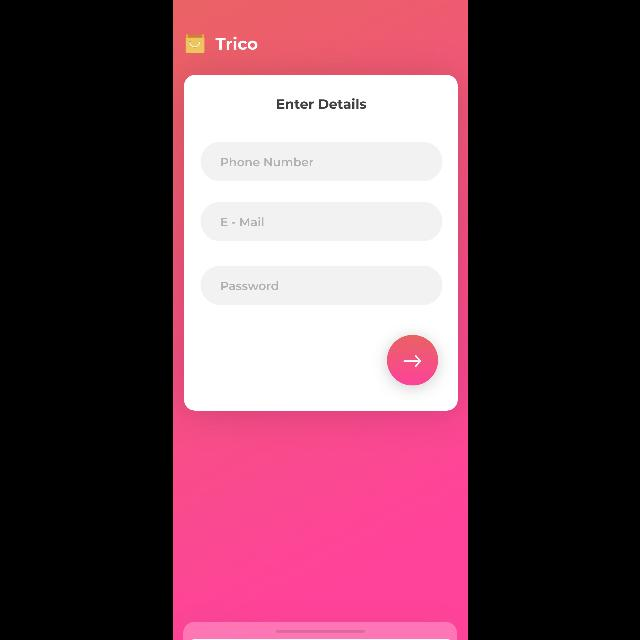icon: (387, 335, 438, 385)
image: (184, 34, 203, 54)
input: (200, 142, 442, 182), (200, 202, 442, 242), (200, 266, 442, 304)
text: (275, 97, 365, 109), (220, 158, 312, 166), (215, 36, 257, 50), (220, 282, 278, 290), (221, 218, 263, 226)
